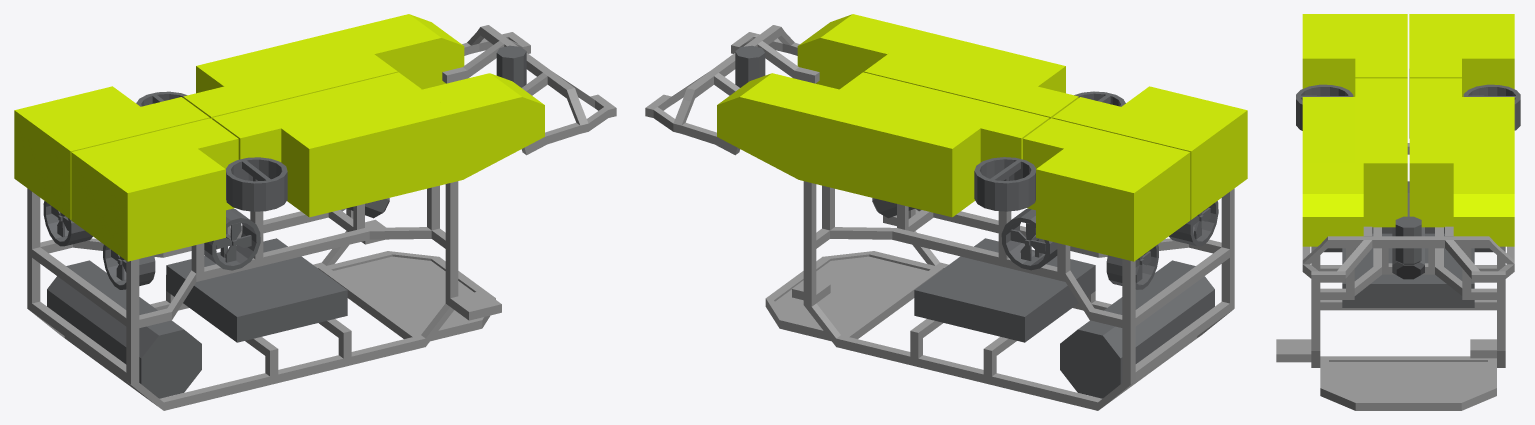
Rendered from Herc_low_poly.glb.
3 renders of one model, left to right at view 1: azimuth 30°, elevation 25°; view 2: azimuth 150°, elevation 25°; view 3: azimuth 270°, elevation 25°, orthographic. The views are drawn at different scales.
Visible parts, largest first — view 1: Ballast, Frame, Weight_Box, Weight_Cylinder, Vert_Thrust_right, Perp_Thrust_RIght, Forward_Thrust_Right, Forward_Thrust_Left, Down_Camera; view 2: Ballast, Frame, Weight_Box, Weight_Cylinder, Vert_Thrust_Left, Perp_Thrust_Left, Forward_Thrust_Left, Forward_Thrust_Right, Down_Camera; view 3: Ballast, Frame, Weight_Box, Down_Camera, Vert_Thrust_right, Vert_Thrust_Left, Forward_Camera, Weight_Cylinder.
Part boxes in pixels (x1,y1,x2,y2): Ballast: [14, 14, 544, 261]; Frame: [27, 25, 616, 410]; Weight_Box: [166, 238, 347, 342]; Weight_Cylinder: [47, 260, 201, 398]; Vert_Thrust_right: [226, 157, 287, 211]; Perp_Thrust_RIght: [204, 208, 260, 270]; Forward_Thrust_Right: [103, 244, 155, 289]; Forward_Thrust_Left: [43, 201, 92, 246]; Down_Camera: [496, 45, 526, 87]; Ballast: [717, 14, 1247, 261]; Frame: [645, 25, 1234, 410]; Weight_Box: [914, 238, 1095, 342]; Weight_Cylinder: [1060, 260, 1214, 398]; Vert_Thrust_Left: [974, 157, 1035, 211]; Perp_Thrust_Left: [1001, 208, 1057, 270]; Forward_Thrust_Left: [1106, 244, 1158, 289]; Forward_Thrust_Right: [1169, 201, 1218, 246]; Down_Camera: [735, 45, 765, 87]; Ballast: [1302, 14, 1514, 246]; Frame: [1276, 143, 1514, 410]; Weight_Box: [1342, 233, 1474, 307]; Down_Camera: [1395, 216, 1421, 264]; Vert_Thrust_right: [1296, 84, 1353, 130]; Vert_Thrust_Left: [1463, 84, 1520, 130]; Forward_Camera: [1392, 227, 1424, 279]; Weight_Cylinder: [1324, 181, 1492, 251].
Bounding box in the file's own units: 6.03 × 2.7 × 2.77.
